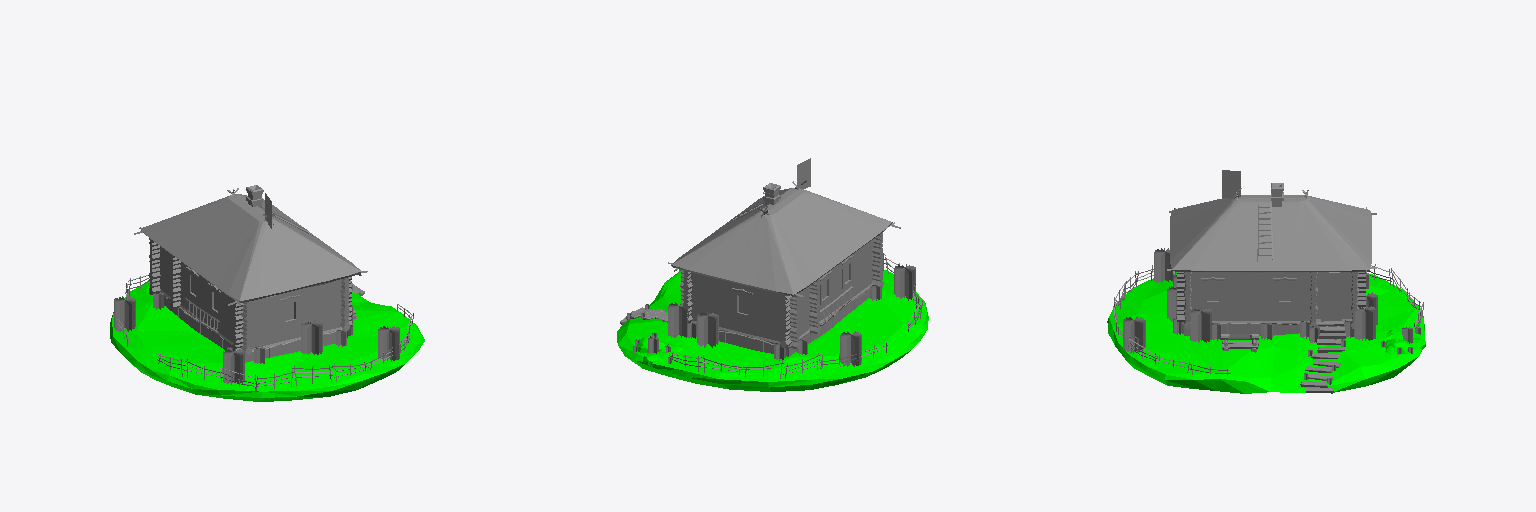
File: hatka_local_.obj
3 views of the same model, side by side, from view 1: azimuth 30°, elevation 25°; view 2: azimuth 150°, elevation 25°; view 3: azimuth 270°, elevation 25° (orthographic).
Visible parts, largest first — view 1: Plane001, grount, flower, fence; view 2: Plane001, grount, flower, fence; view 3: Plane001, grount, flower, fence, step, Object001.
Boxes of the visible parts, x1,y1,x2,y2 form: Plane001: [134, 185, 367, 362]; grount: [110, 281, 424, 401]; flower: [114, 285, 399, 384]; fence: [117, 273, 413, 390]; Plane001: [668, 180, 900, 356]; grount: [617, 270, 928, 391]; flower: [627, 264, 915, 366]; fence: [669, 253, 922, 378]; Plane001: [1167, 183, 1376, 344]; grount: [1107, 272, 1425, 393]; flower: [1123, 248, 1420, 384]; fence: [1113, 264, 1423, 375]; step: [1300, 347, 1344, 393]; Object001: [1221, 334, 1258, 352].
Bounding box in the file's own units: 1879 × 907 × 2047.